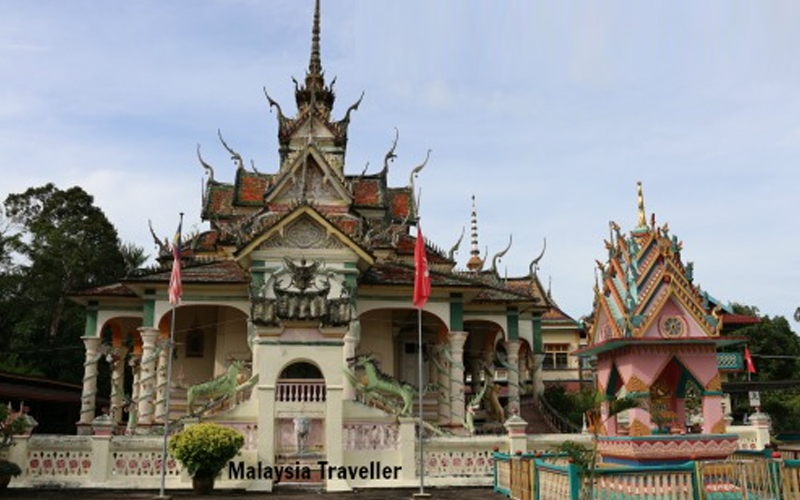Buddhist Temple: (82, 11, 734, 454)
